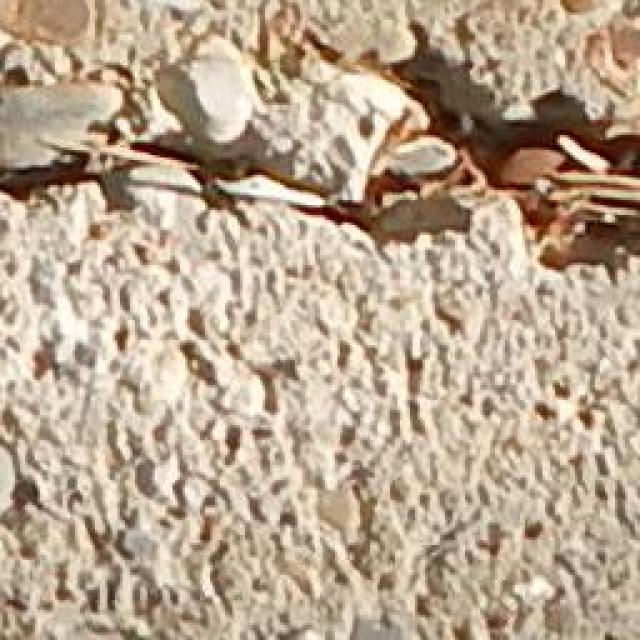concrete-crack: (1, 11, 640, 276)
